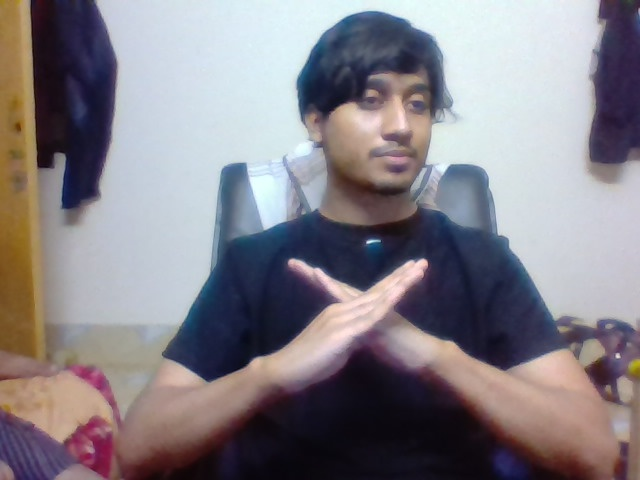X: (262, 240, 464, 378)
